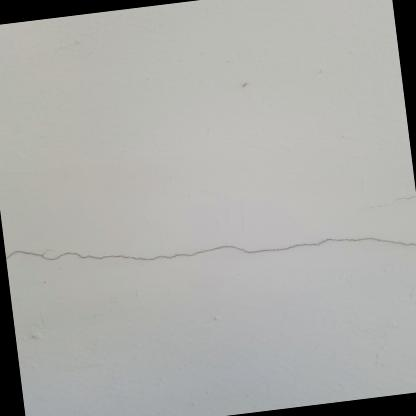crack: (5, 237, 416, 260), (369, 195, 416, 207)
